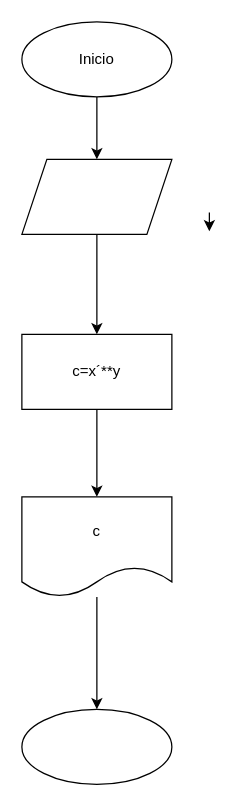
The diagram is 241 pixels wide and 806 high, and some of its shapes have lost their labels. The box of each missing label's shape, as (x1, y1, x2, y2) in pixels:
a,b: (21, 158, 172, 234)
Fin: (21, 708, 172, 784)
